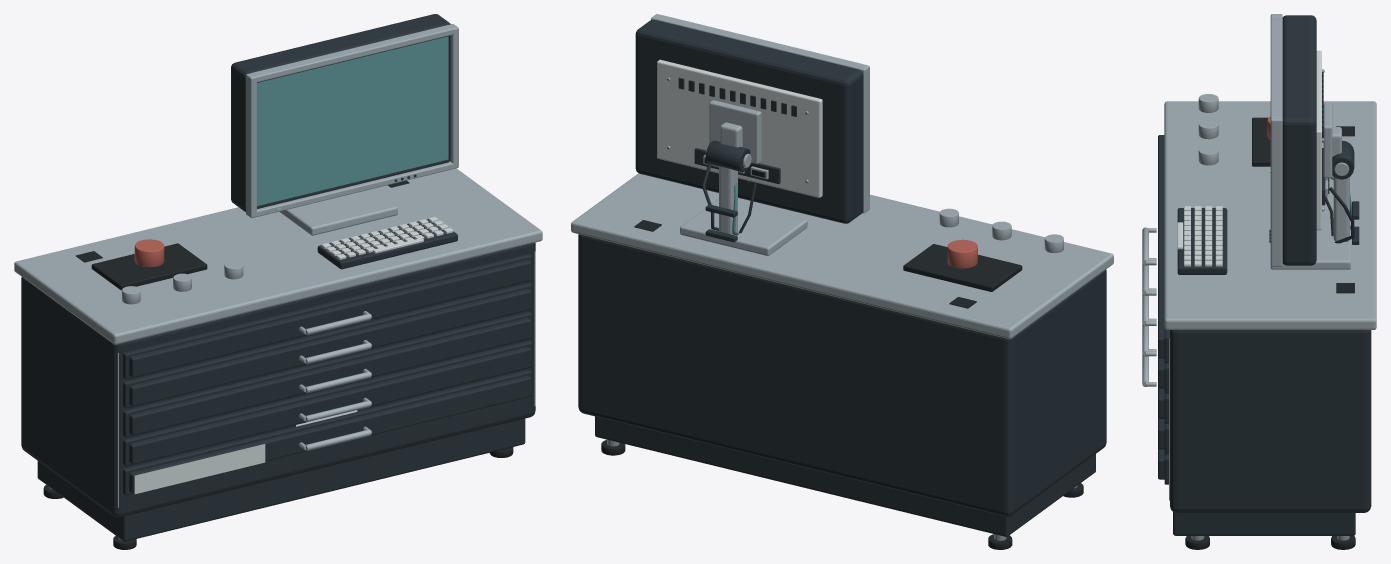
Rendered from OD_ExchangeControl.fbx.
3 views of the same model, side by side, from view 1: azimuth 30°, elevation 25°; view 2: azimuth 150°, elevation 25°; view 3: azimuth 270°, elevation 25° (orthographic). The views are drawn at different scales.
Visible parts, largest first — view 1: OD_ExchangeControl; view 2: OD_ExchangeControl; view 3: OD_ExchangeControl.
Boxes of the visible parts, <box> form: OD_ExchangeControl: <box>14,14,542,549</box>; OD_ExchangeControl: <box>571,14,1113,549</box>; OD_ExchangeControl: <box>1142,14,1376,549</box>.
Bounding box in the file's own units: 168 × 150 × 75.65.
